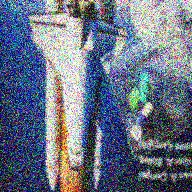러키펜정: (130, 125, 143, 141)
씨엠지세파클러캡슐: (135, 102, 153, 127)
에르도캡슐: (139, 72, 150, 105)
휴티렌정: (128, 88, 140, 110)
